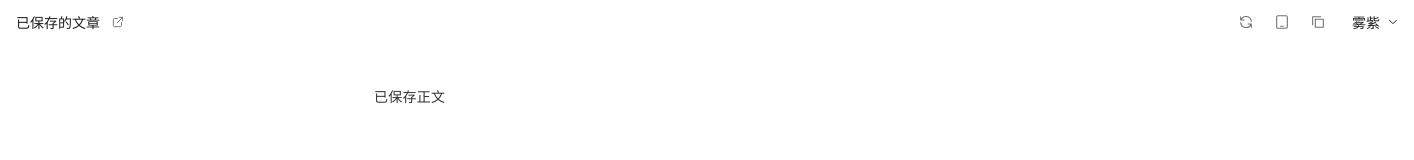
Preview 页面 › 复制成功后提示已复制
Expected: the heading "已保存的文章" is shown, x1=16 y1=12 x2=100 y2=32
What coordinates should you click on to do the following:
click the button named "复制"
I would click on:
 (1318, 22)
Its box is x1=1304 y1=8 x2=1332 y2=36.
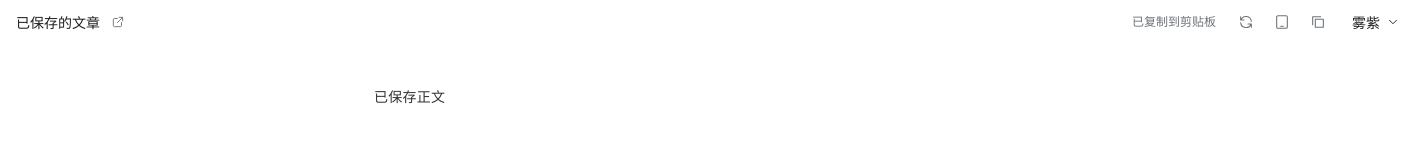
Now the text "已复制到剪贴板" is shown, box x1=1132 y1=14 x2=1216 y2=30
